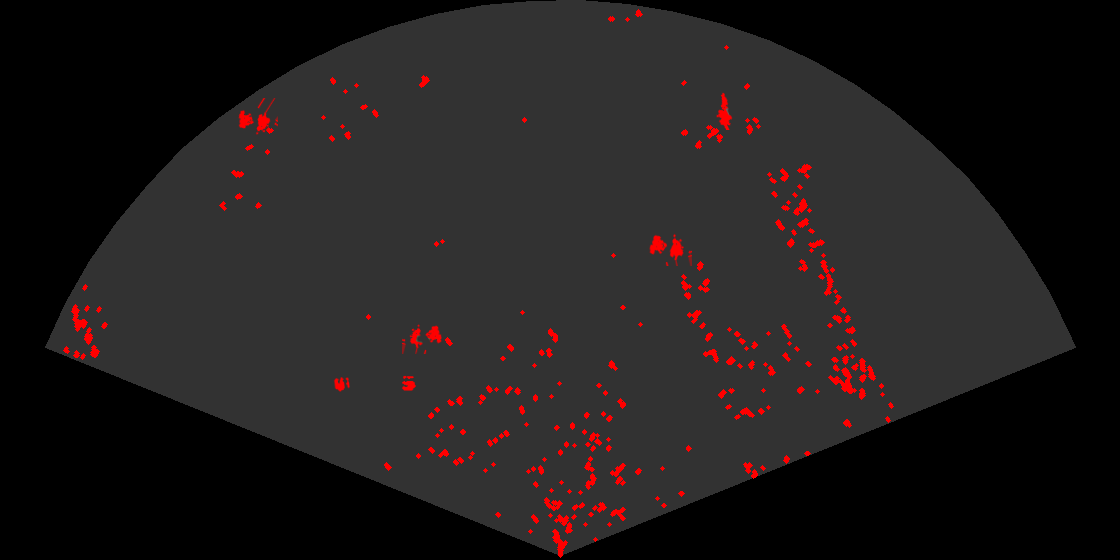ball: (332, 376, 351, 393), (400, 374, 417, 391)
cage: (237, 98, 278, 136), (648, 232, 692, 266), (402, 323, 443, 354)
frogman: (715, 90, 734, 130)
